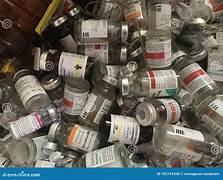Iv_Bottle: (0, 0, 58, 55), (153, 124, 218, 163), (173, 56, 218, 103), (78, 75, 117, 128), (145, 0, 171, 69), (9, 104, 60, 138), (99, 114, 152, 144), (14, 69, 50, 112), (48, 122, 99, 152), (119, 70, 177, 96), (38, 50, 93, 77), (72, 143, 130, 167), (73, 19, 127, 43), (136, 98, 180, 125), (196, 96, 222, 141), (45, 15, 76, 52), (9, 135, 47, 165), (77, 42, 127, 64), (63, 78, 89, 120), (0, 75, 25, 116), (145, 30, 171, 69), (123, 0, 147, 30), (87, 0, 123, 20), (91, 61, 120, 85), (207, 45, 222, 90), (148, 0, 171, 29), (147, 152, 190, 167), (41, 73, 63, 100), (190, 0, 211, 21), (175, 1, 193, 21), (0, 154, 17, 167)
